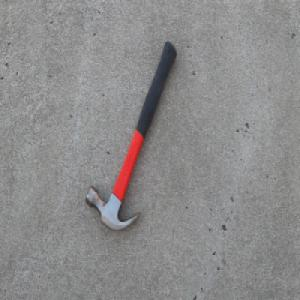Hammer: (85, 39, 177, 232)
